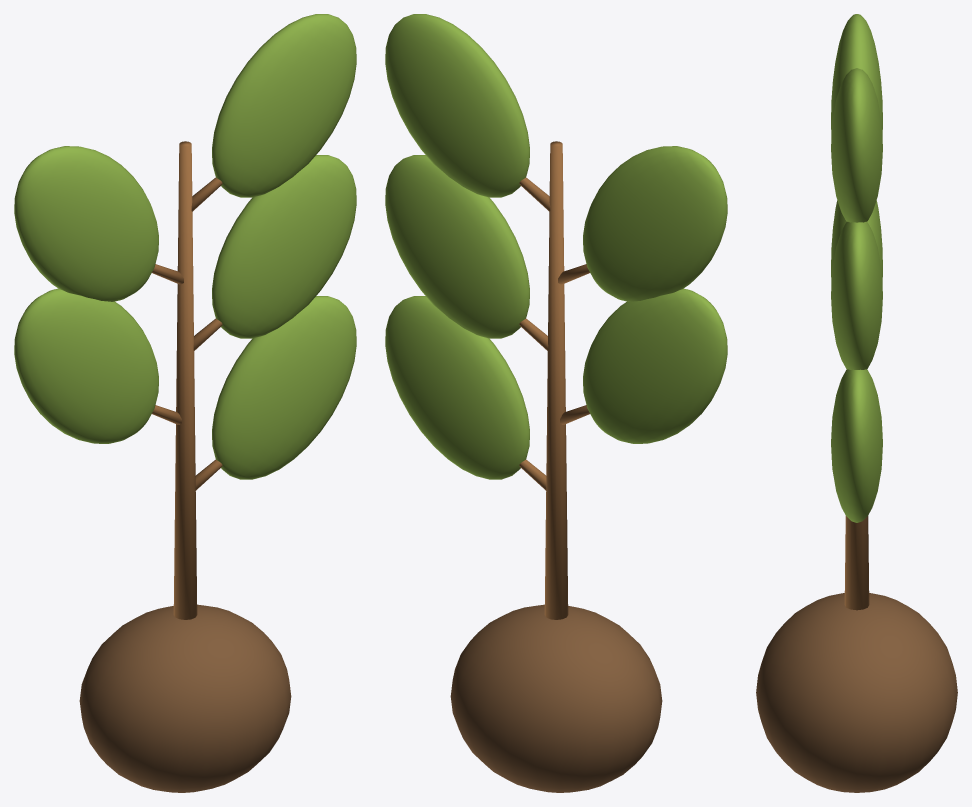
File: bosbouwer_planten_gereedschap.glb
3 views of the same model, side by side, from view 1: azimuth 30°, elevation 25°; view 2: azimuth 150°, elevation 25°; view 3: azimuth 270°, elevation 25° (orthographic). The views are drawn at different scales.
Parts seen in each view (by area): view 1: Sapling_rootball.001, Sapling_leaf.009, Sapling_leaf.008, Sapling_leaf.005, Sapling_leaf.007, Sapling_leaf.006, Sapling_stem.001; view 2: Sapling_rootball.001, Sapling_leaf.009, Sapling_leaf.008, Sapling_leaf.005, Sapling_leaf.007, Sapling_leaf.006, Sapling_stem.001; view 3: Sapling_rootball.001, Sapling_leaf.009, Sapling_leaf.005, Sapling_leaf.007, Sapling_leaf.008, Sapling_stem.001, Sapling_leaf.006.
Boxes of the visible parts, <box> form: Sapling_rootball.001: <box>79,604,291,792</box>; Sapling_leaf.009: <box>212,14,356,197</box>; Sapling_leaf.008: <box>14,146,158,301</box>; Sapling_leaf.005: <box>212,296,356,479</box>; Sapling_leaf.007: <box>212,155,356,338</box>; Sapling_leaf.006: <box>14,288,158,443</box>; Sapling_stem.001: <box>173,141,197,619</box>; Sapling_rootball.001: <box>450,604,662,792</box>; Sapling_leaf.009: <box>385,14,529,197</box>; Sapling_leaf.008: <box>583,146,727,301</box>; Sapling_leaf.005: <box>385,296,529,479</box>; Sapling_leaf.007: <box>385,155,529,338</box>; Sapling_leaf.006: <box>583,288,727,443</box>; Sapling_stem.001: <box>544,141,568,619</box>; Sapling_rootball.001: <box>756,593,957,792</box>; Sapling_leaf.009: <box>831,68,882,222</box>; Sapling_leaf.005: <box>831,369,882,522</box>; Sapling_leaf.007: <box>831,221,882,369</box>; Sapling_leaf.008: <box>831,14,882,136</box>; Sapling_stem.001: <box>844,516,869,610</box>; Sapling_leaf.006: <box>831,200,882,284</box>.
Size of the model in its own units: 0.3788 by 0.7836 by 0.186.
